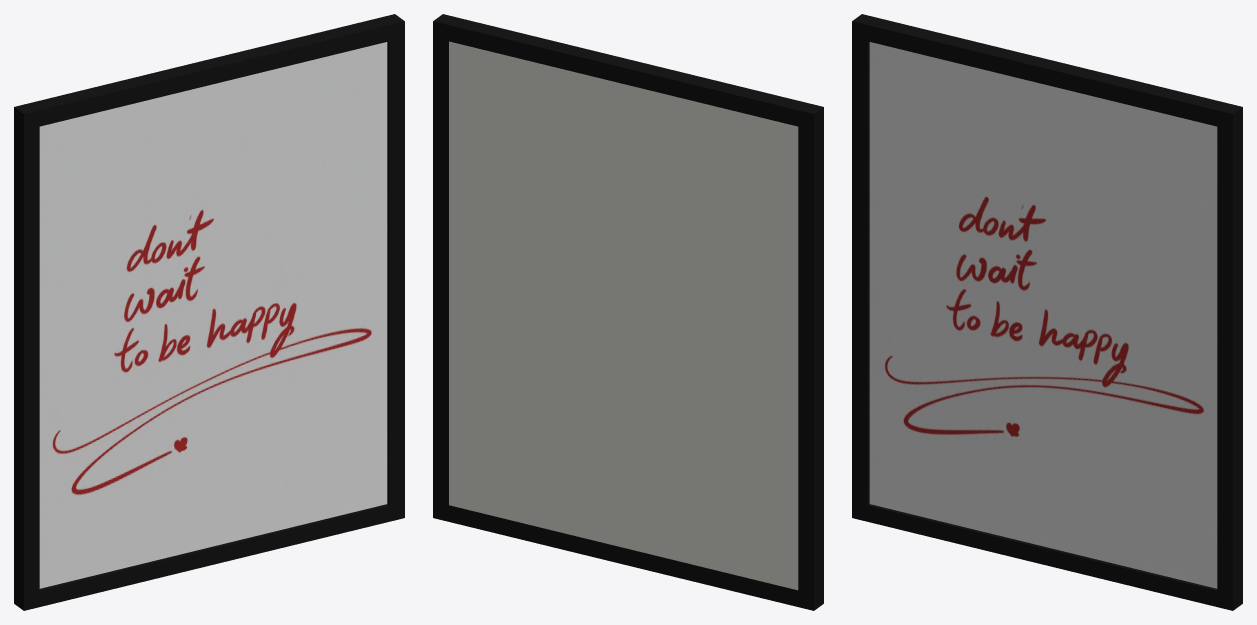
Rendered from framed-poster-dont-wait-to-be-happy-minimal-red-script-wall-art.glb.
3 views of the same model, side by side, from view 1: azimuth 30°, elevation 25°; view 2: azimuth 150°, elevation 25°; view 3: azimuth 330°, elevation 25° (orthographic).
Parts seen in each view (by area): view 1: Don't Wait to Be Happy – Typo-Poster in Rot; view 2: Don't Wait to Be Happy – Typo-Poster in Rot; view 3: Don't Wait to Be Happy – Typo-Poster in Rot.
Boxes of the visible parts, x1,y1,x2,y2 form: Don't Wait to Be Happy – Typo-Poster in Rot: [14, 14, 404, 610]; Don't Wait to Be Happy – Typo-Poster in Rot: [433, 14, 823, 610]; Don't Wait to Be Happy – Typo-Poster in Rot: [852, 14, 1242, 610].
Bounding box in the file's own units: 0.4891 × 0.6096 × 0.022.
1 material, 1 textured.
